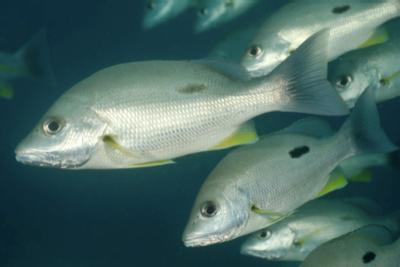Lutjanidae -Snappers-: (10, 26, 355, 171), (178, 82, 399, 253)
